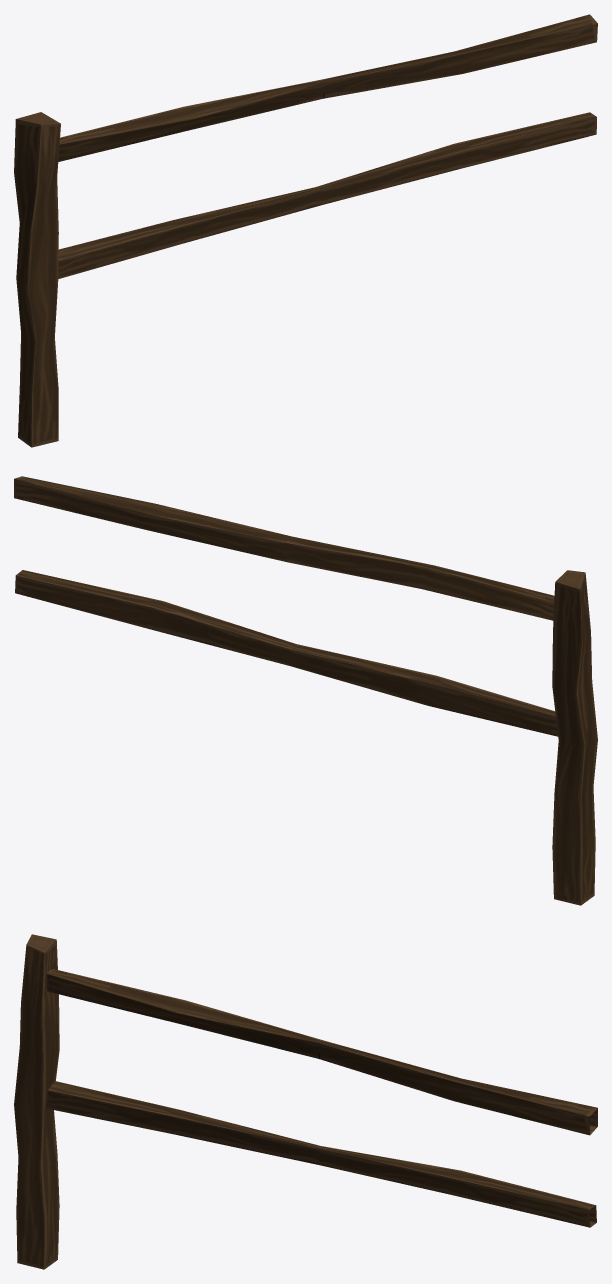
The model's file is Fence03_Geo.fbx.
3 renders of one model, top to bottom at view 1: azimuth 30°, elevation 25°; view 2: azimuth 150°, elevation 25°; view 3: azimuth 330°, elevation 25°, orthographic.
Parts seen in each view (by area): view 1: Fence033_Geo, Fence031_Geo, Fence032_Geo; view 2: Fence033_Geo, Fence032_Geo, Fence031_Geo; view 3: Fence033_Geo, Fence032_Geo, Fence031_Geo.
Boxes of the visible parts, x1=… form: Fence033_Geo: x1=58, y1=112, x2=596, y2=278; Fence031_Geo: x1=14, y1=112, x2=60, y2=447; Fence032_Geo: x1=58, y1=14, x2=597, y2=161; Fence033_Geo: x1=15, y1=570, x2=558, y2=736; Fence032_Geo: x1=14, y1=476, x2=554, y2=620; Fence031_Geo: x1=552, y1=570, x2=597, y2=905; Fence033_Geo: x1=46, y1=1081, x2=596, y2=1227; Fence032_Geo: x1=46, y1=969, x2=597, y2=1135; Fence031_Geo: x1=14, y1=934, x2=59, y2=1269.
Bounding box in the file's own units: 181 × 96.83 × 9.13.
